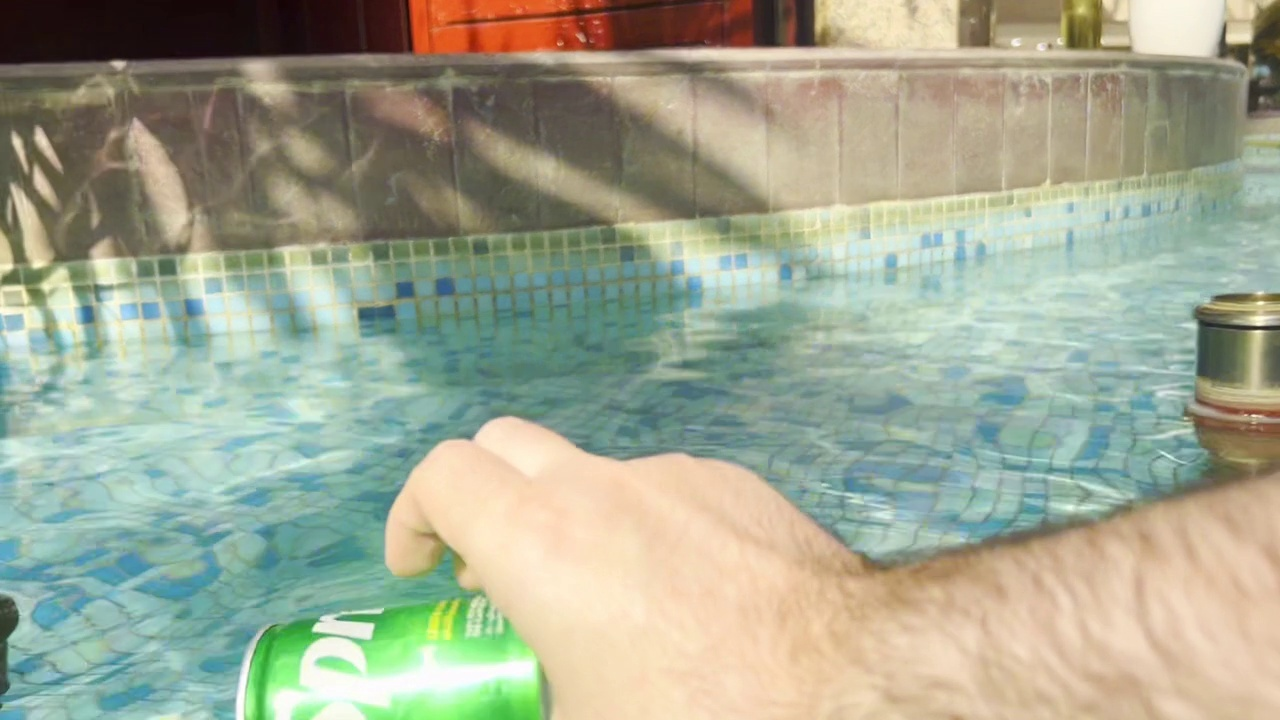debris: (223, 590, 575, 720)
